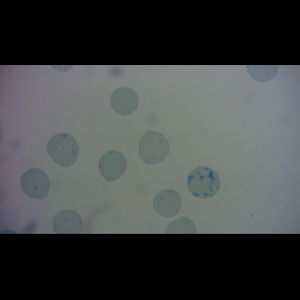aggregate reticulocyte: (185, 165, 222, 200)
erythrocyte: (108, 86, 140, 117)
punctate reticulocyte: (45, 131, 80, 169), (137, 129, 171, 166), (19, 167, 52, 201), (97, 149, 129, 183), (151, 187, 184, 219)
